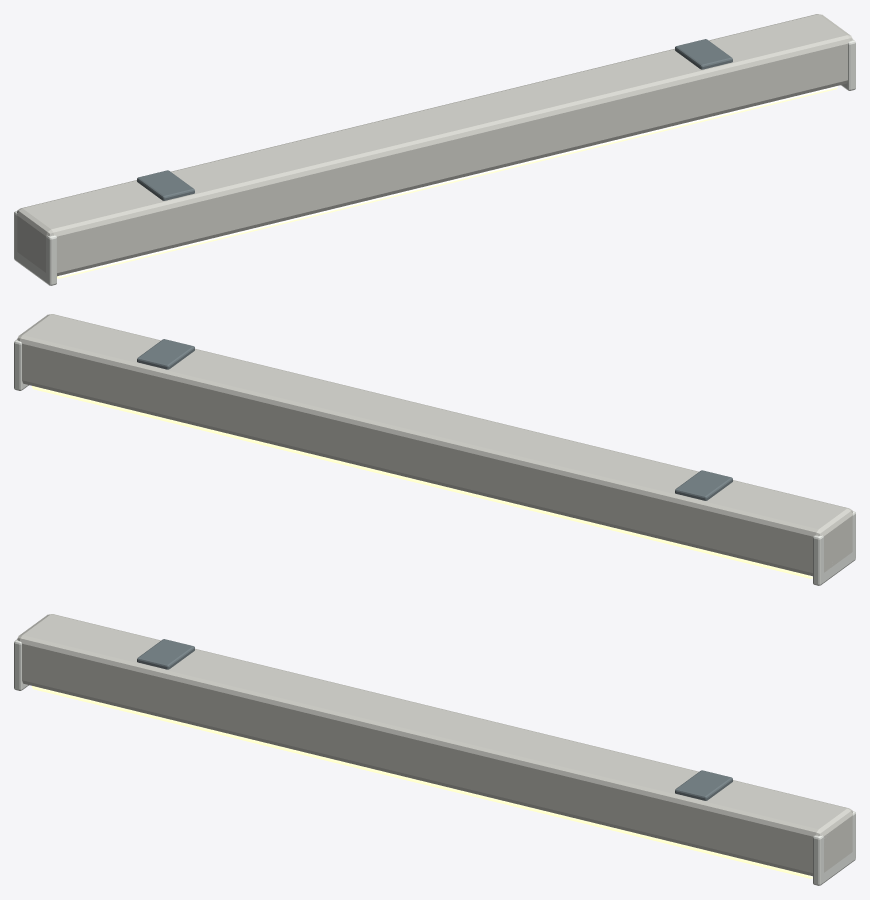
Rendered from OAA_Luminaire_Linear_1200.fbx.
The picture shows the model from 3 angles, top to bottom: view 1: azimuth 30°, elevation 25°; view 2: azimuth 150°, elevation 25°; view 3: azimuth 330°, elevation 25°; orthographic projection.
Parts seen in each view (by area): view 1: Body; view 2: Body; view 3: Body.
Boxes of the visible parts, left/top/right/bottom form: Body: left=14, top=14, right=855, bottom=285; Body: left=14, top=314, right=855, bottom=585; Body: left=14, top=614, right=855, bottom=885.
Size of the model in its own units: 1.2 by 0.082 by 0.095.
